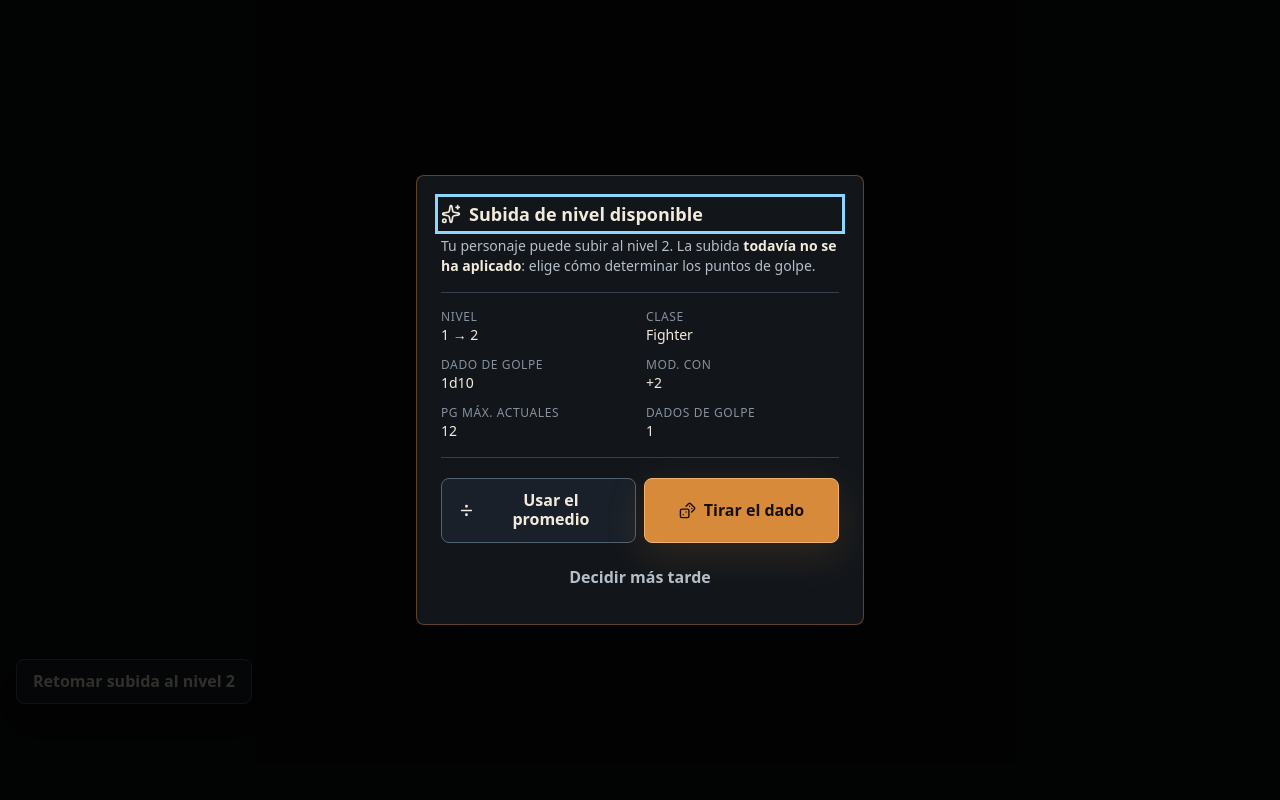
D. LevelUpConfirmation — applied › D3. treats a 200 without payload as a failure, never as an ascension
What coordinates should you click on to do the following:
click the button "Tirar el dado"
I would click on:
 (742, 510)
Its box is [644,478,839,543].
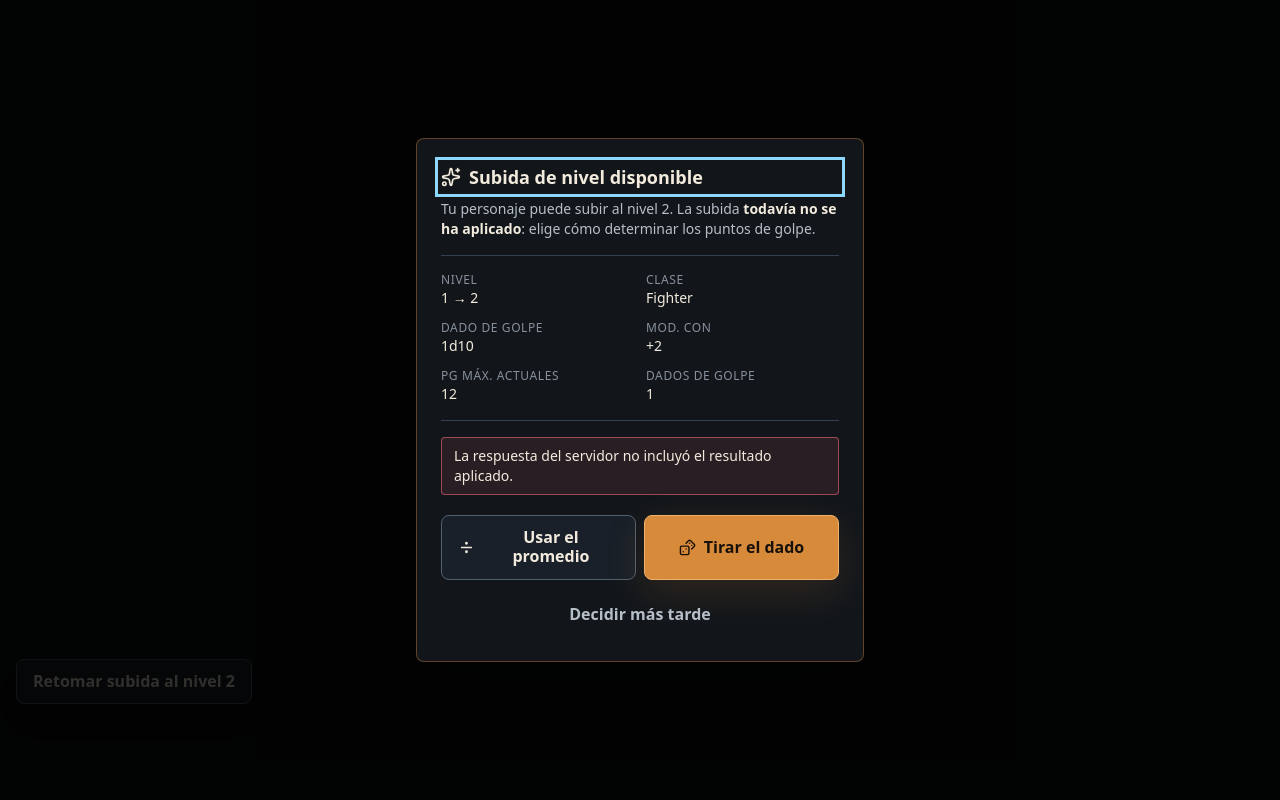
expect the message "La respuesta del servidor no incluyó el resultado aplicado." is shown: met, box [441,437,839,495]
